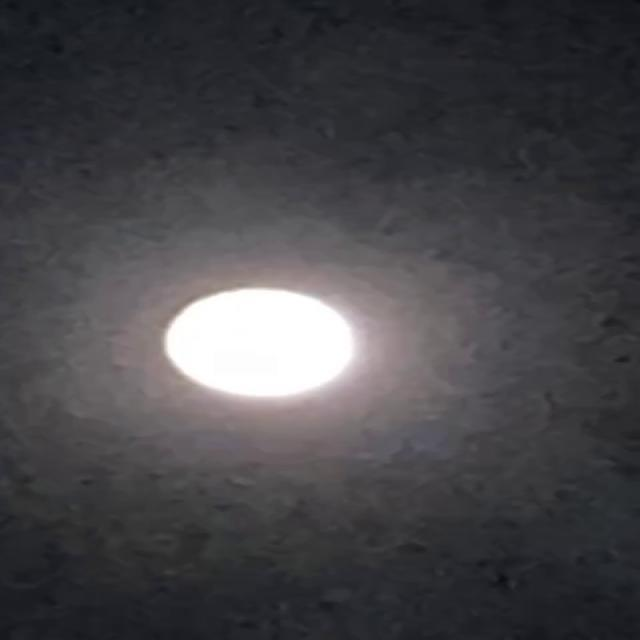moon: (150, 283, 377, 404)
